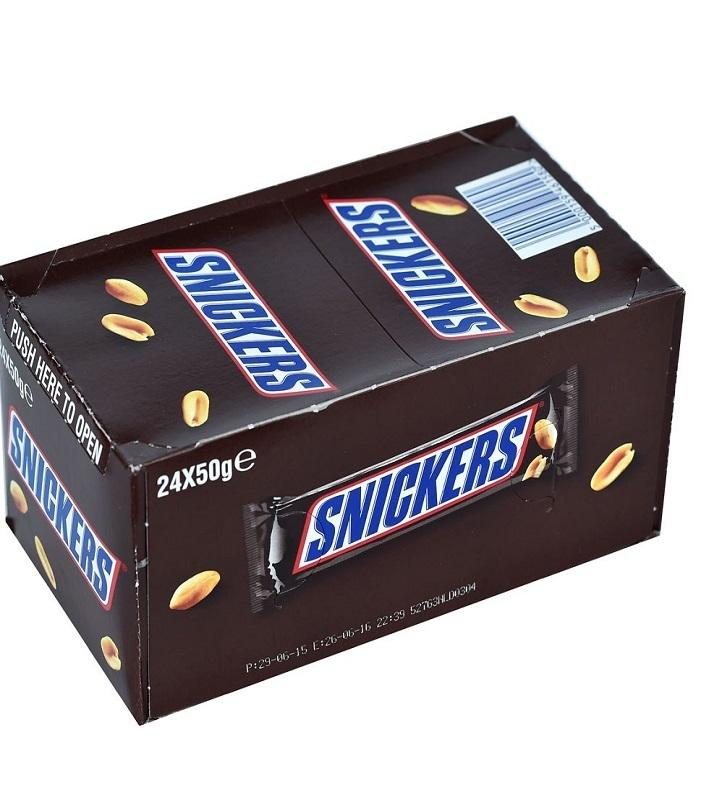snickers: (302, 414, 526, 563), (159, 252, 325, 390), (332, 202, 500, 333), (9, 406, 112, 602)
